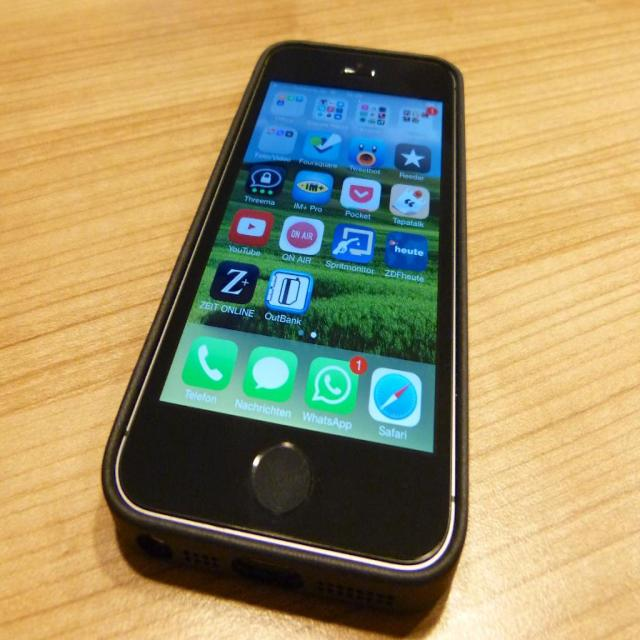Mobile-phone: (106, 16, 490, 625)
